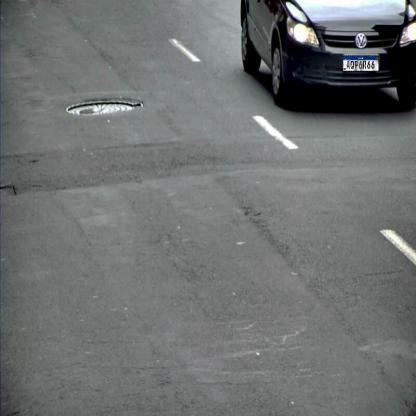PlacaM: (343, 56, 379, 72)
